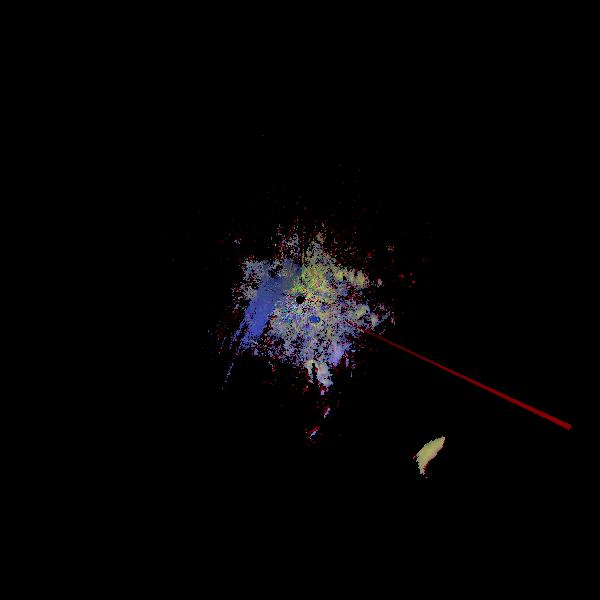roost: (236, 342, 353, 459), (413, 432, 479, 498)
